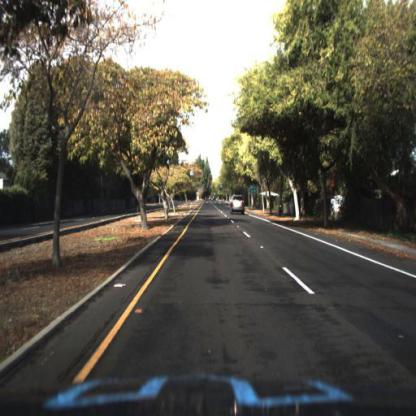car: (229, 194, 250, 220)
